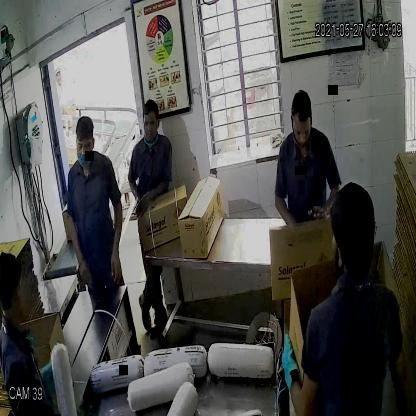no_goggles: (290, 122, 314, 141), (73, 137, 96, 155), (141, 117, 161, 132)
